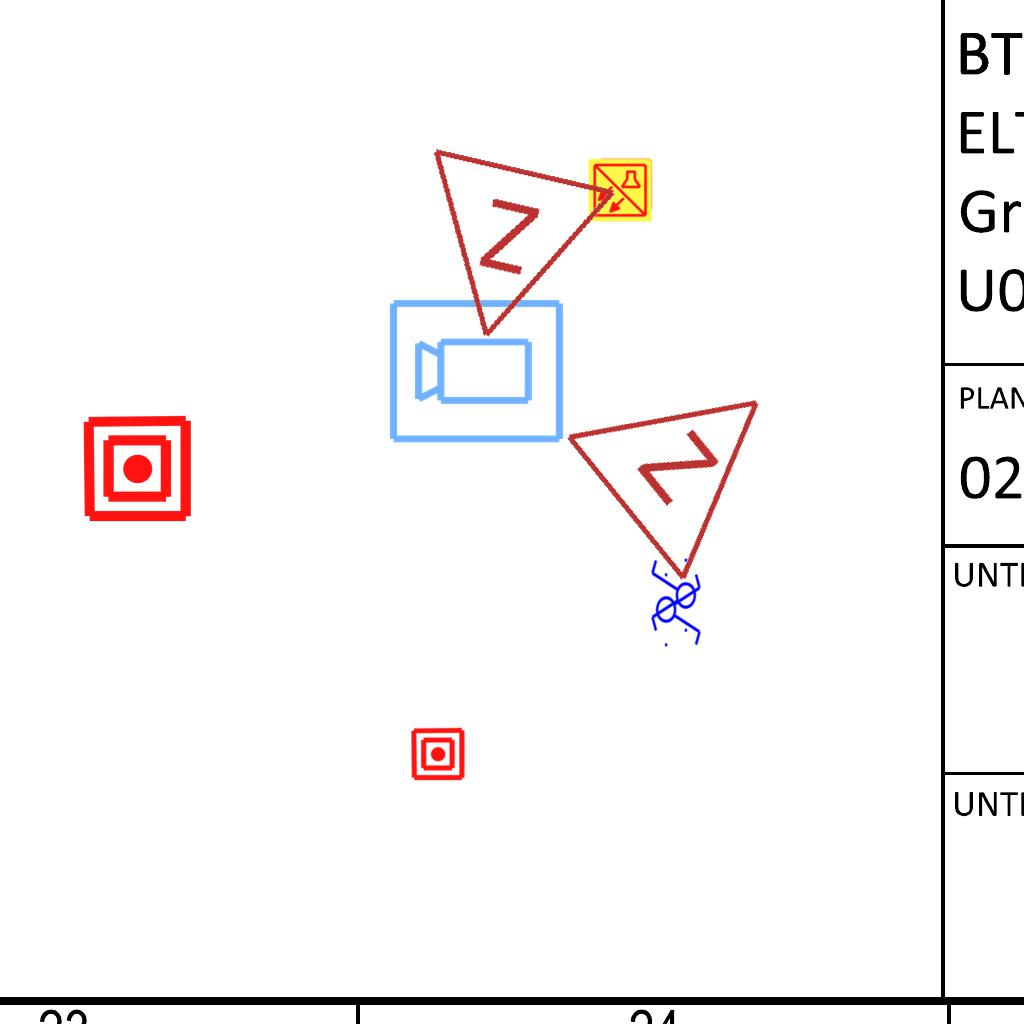KFO_Kamera_mit_Festobjektiv: (386, 293, 568, 447)
NAM-Nichtautomatischer_Melder: (81, 412, 194, 525), (410, 726, 466, 782)
OKW_Multisensormelder_(Kombination_optischer_Rauch-Kahlenmonoxid_Waerme-Melder): (587, 157, 653, 223)
Serienschalter: (649, 554, 697, 638), (655, 567, 703, 651)
Zimmersignalleuchte: (549, 314, 829, 594), (390, 133, 626, 373)
